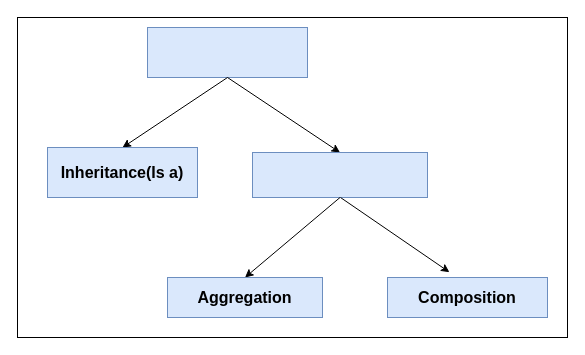
This 585x355 diagram has some shape labels left out. Each missing label, with the centre of its shape:
Association(Has a): the point at 340,175
Types of Relationship: the point at 227,52
